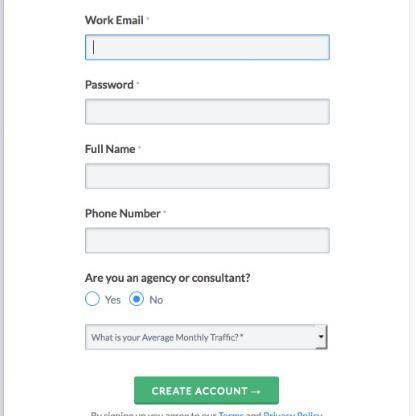button: (133, 376, 280, 405)
field: (82, 97, 331, 126), (83, 161, 332, 190), (82, 225, 331, 254), (82, 33, 330, 61), (84, 324, 328, 351)
field_with_label: (79, 14, 332, 62), (80, 79, 333, 127), (80, 207, 333, 255), (82, 143, 333, 191)
radio: (84, 290, 102, 307), (129, 290, 147, 307)
radio_with_label: (82, 287, 122, 308), (127, 288, 165, 309)
